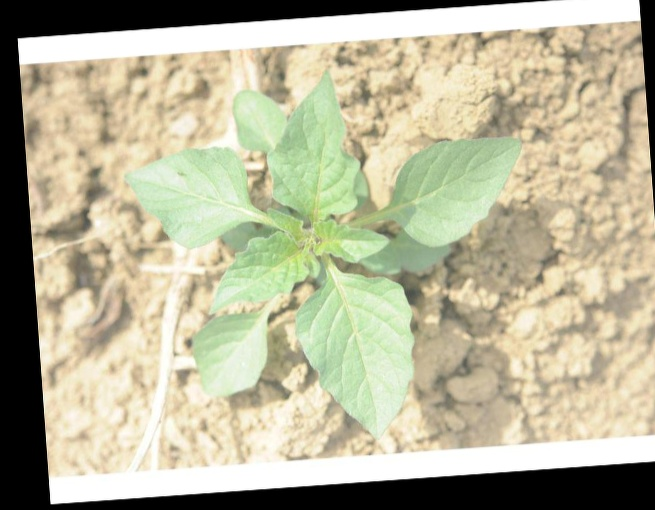nightshade: (130, 69, 530, 441)
